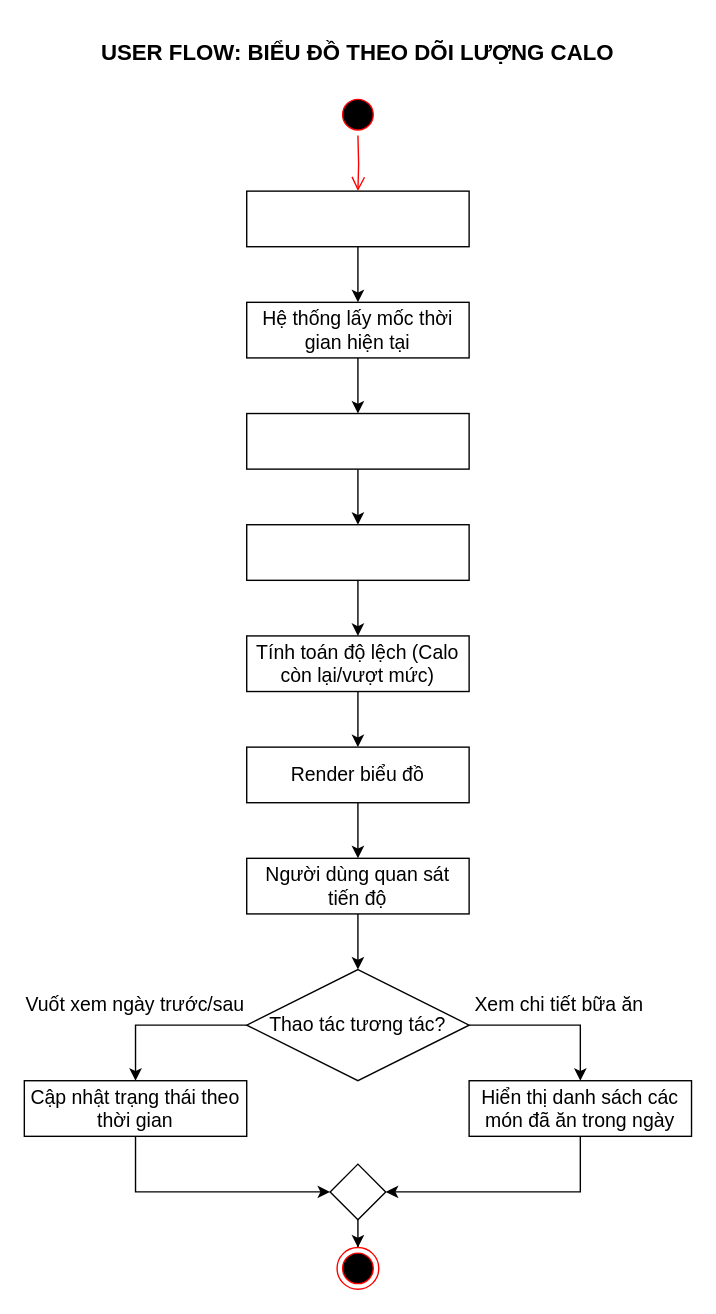
The diagram is 716 pixels wide and 1314 high, and some of its shapes have lost their labels. The centre of each missing label's shape, as x and y in pixels:
"Người dùng truy cập trang Dashboard" goes at (x=357, y=218).
"Truy vấn database lượng calo đã nạp trong ngày" goes at (x=357, y=440).
"Truy vấn mục tiêu calo từ User Profile" goes at (x=357, y=551).
